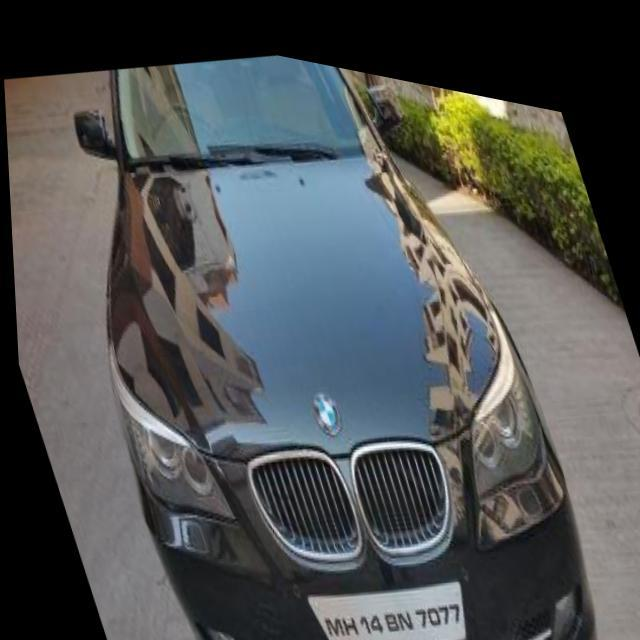license_plate: (296, 537, 470, 640)
